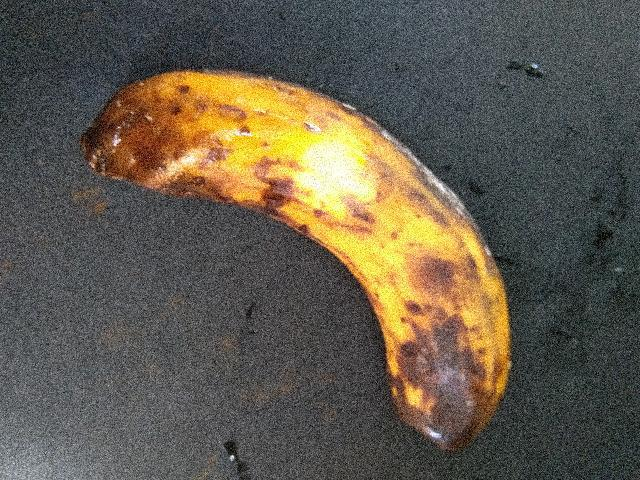rotten: (70, 48, 529, 469)
